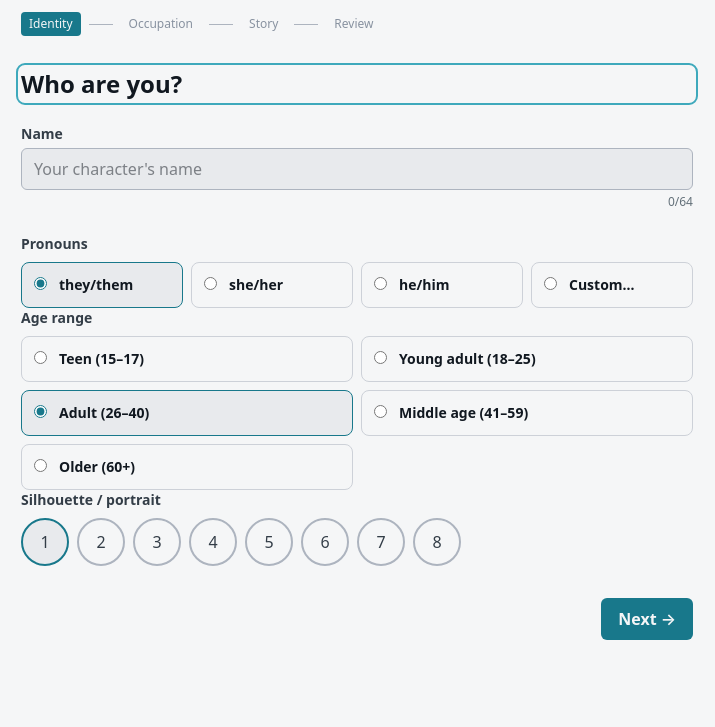
Test: CharacterCreation – identity validation › shows custom pronouns field when Custom is selected
The width and height of the screenshot is (715, 727).
Click the radio button labelled "Custom…" at (550, 284), box [544,277,557,290]
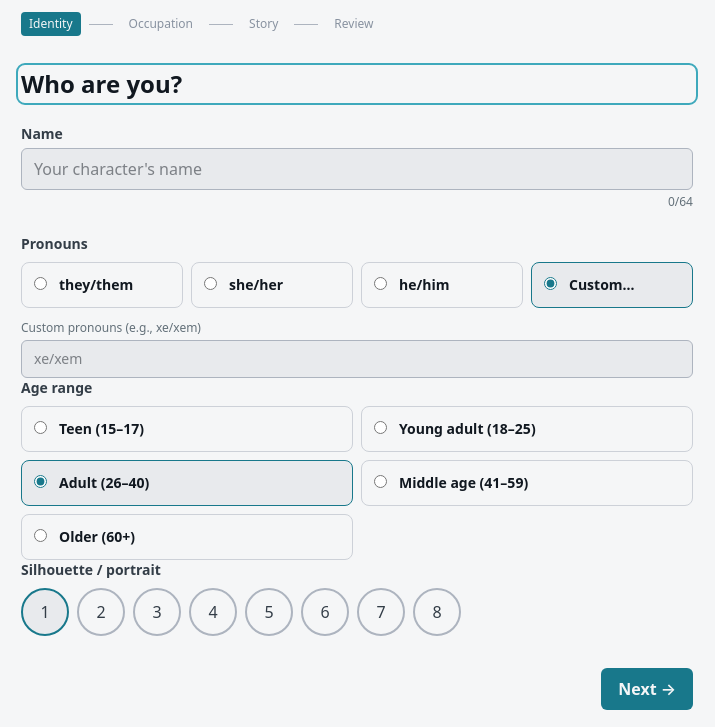
Check: the field with placeholder "xe/xem" is shown, box [21,340,693,378]
